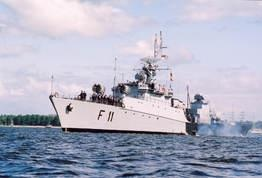warship: (46, 30, 206, 138)
